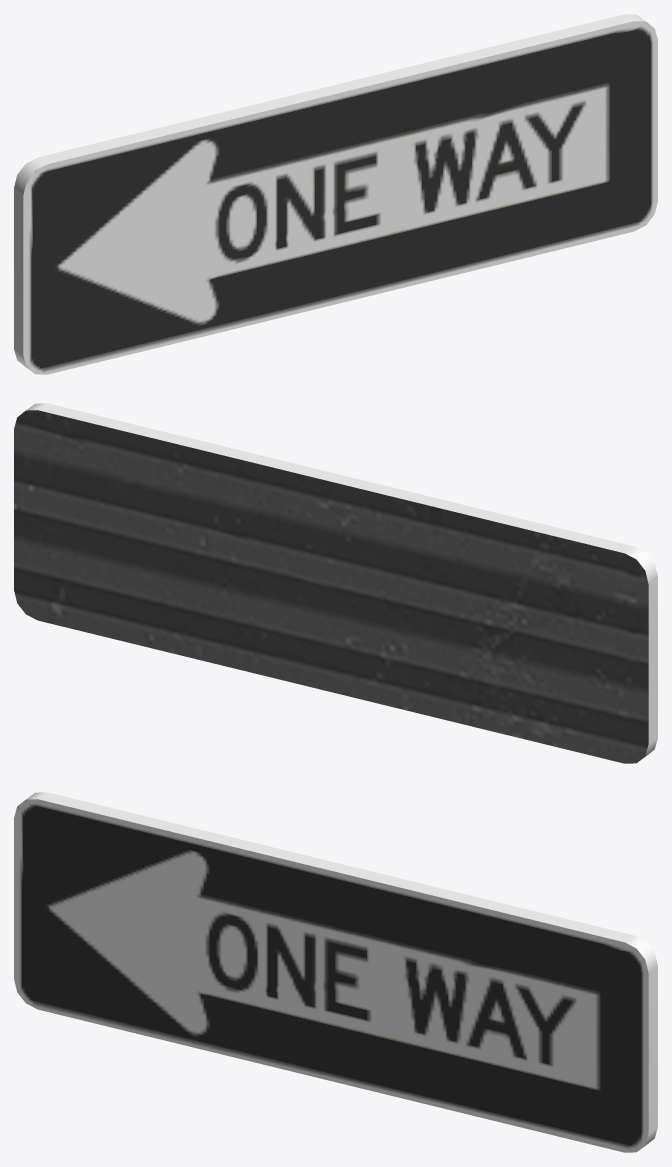
The model's file is Road_Sign_09.fbx.
3 renders of one model, top to bottom at view 1: azimuth 30°, elevation 25°; view 2: azimuth 150°, elevation 25°; view 3: azimuth 330°, elevation 25°, orthographic.
Visible parts, largest first — view 1: Road_Sign_09; view 2: Road_Sign_09; view 3: Road_Sign_09.
Boxes of the visible parts, bbox=[...] form: Road_Sign_09: bbox=[14, 14, 657, 374]; Road_Sign_09: bbox=[14, 403, 657, 763]; Road_Sign_09: bbox=[14, 792, 657, 1152].
Size of the model in its own units: 50.23 by 15.92 by 1.3.
